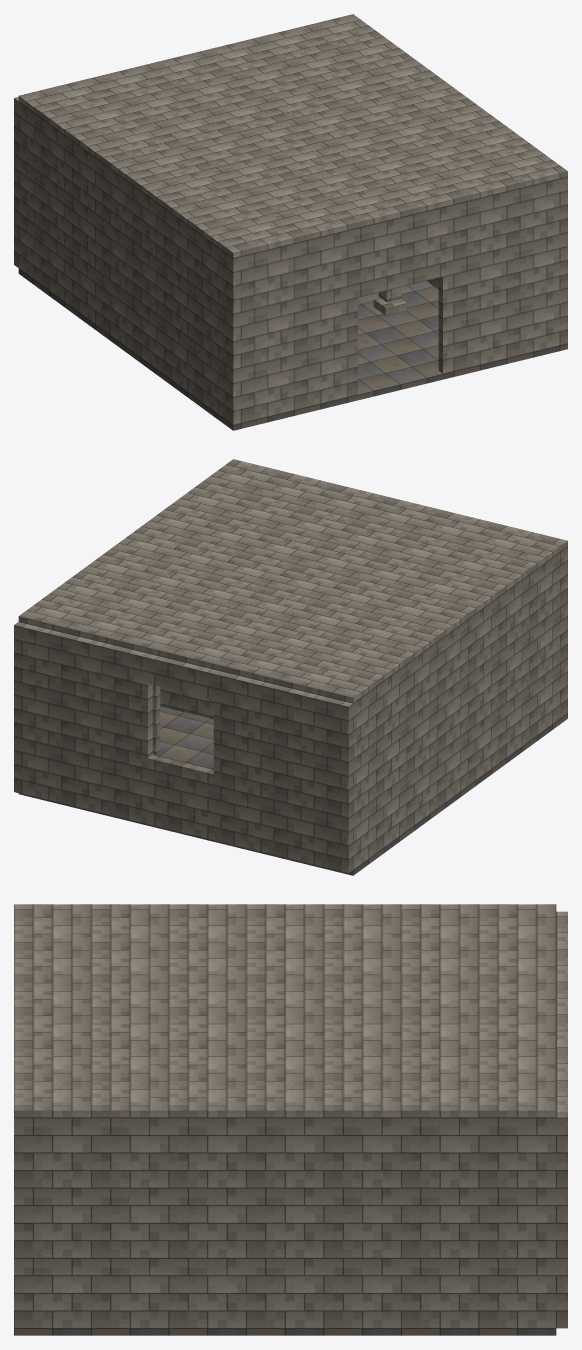
Rendered from MOD_RoomWithHoll.fbx.
The picture shows the model from 3 angles, top to bottom: view 1: azimuth 30°, elevation 25°; view 2: azimuth 150°, elevation 25°; view 3: azimuth 270°, elevation 25°; orthographic projection. The views are drawn at different scales.
Visible parts, largest first — view 1: Ceiling.003, Wall_Side.002, Wall_S.001, Wall_S, Floor.003, Exit_Head, Wall_Side.003, Wall_N, Pillar_1; view 2: Ceiling.003, Wall_N, Wall_Side.002, Ledge_Floor, Floor.003, Ledge_Parapet, Feature_BrickedArch; view 3: Ceiling.003, Wall_Side.003, Wall_N, Floor.003.
Part boxes in pixels (x1,y1,x2,y2): Ceiling.003: [18, 14, 567, 258]; Wall_Side.002: [18, 102, 241, 425]; Wall_S.001: [438, 179, 559, 373]; Wall_S: [241, 228, 357, 423]; Floor.003: [18, 268, 567, 430]; Exit_Head: [358, 207, 442, 297]; Wall_Side.003: [560, 177, 567, 345]; Wall_N: [14, 97, 18, 267]; Pillar_1: [373, 287, 406, 315]; Ceiling.003: [18, 459, 567, 703]; Wall_N: [14, 622, 353, 873]; Wall_Side.002: [353, 546, 567, 869]; Ledge_Floor: [152, 706, 213, 769]; Floor.003: [18, 713, 567, 875]; Ledge_Parapet: [160, 686, 213, 719]; Feature_BrickedArch: [152, 685, 160, 754]; Ceiling.003: [14, 904, 556, 1117]; Wall_Side.003: [14, 1117, 556, 1328]; Wall_N: [556, 911, 567, 1328]; Floor.003: [14, 1328, 556, 1335].
Bounding box in the file's own units: 1260 × 640 × 1430.
